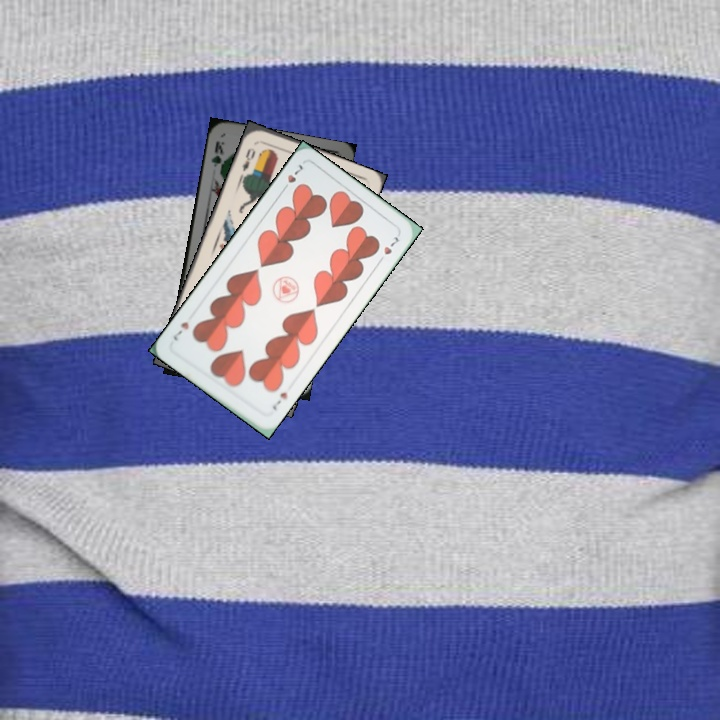EO: (238, 143, 258, 174)
GK: (207, 137, 227, 176)
H7: (277, 160, 305, 195), (268, 388, 290, 413)
